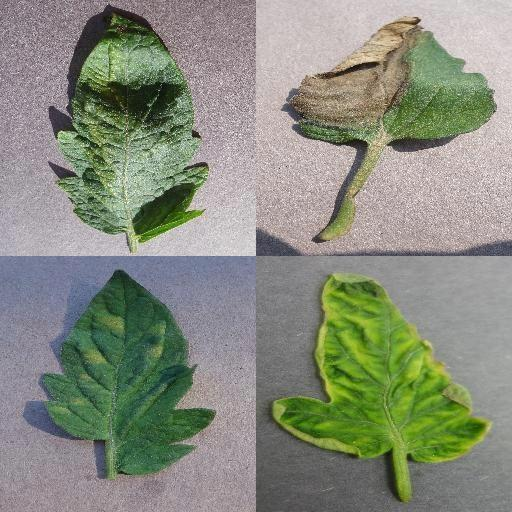Late Blight: (285, 14, 497, 144)
Leaf Mold: (41, 268, 217, 476)
Spider Mites: (55, 10, 211, 244)
Yellow Leaf Curl Virus: (271, 271, 493, 463)
